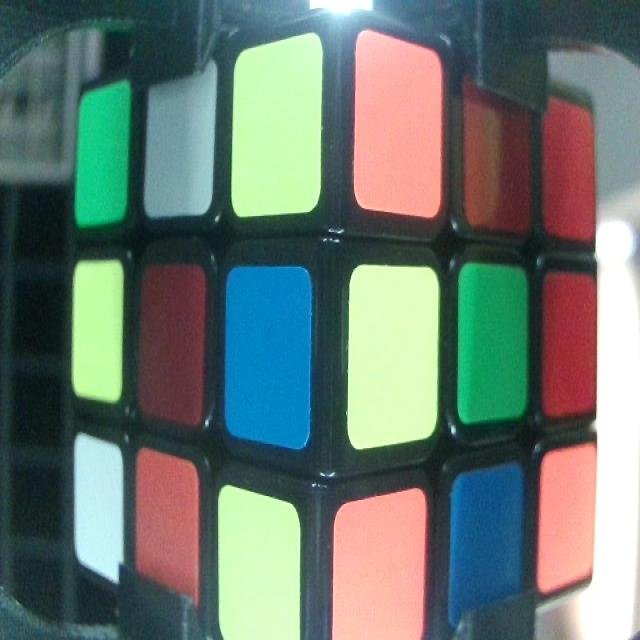b: (228, 270, 310, 444), (452, 474, 521, 626)
g: (459, 266, 525, 412), (77, 87, 129, 221)
o: (357, 32, 441, 211), (336, 499, 427, 640), (139, 451, 199, 609), (543, 454, 596, 580)
r: (143, 269, 201, 420), (465, 84, 526, 226), (548, 278, 594, 416), (546, 102, 593, 234)
w: (149, 71, 212, 210), (72, 436, 120, 572)
y: (349, 264, 435, 446), (235, 48, 319, 214), (221, 490, 298, 640), (74, 262, 120, 398)
